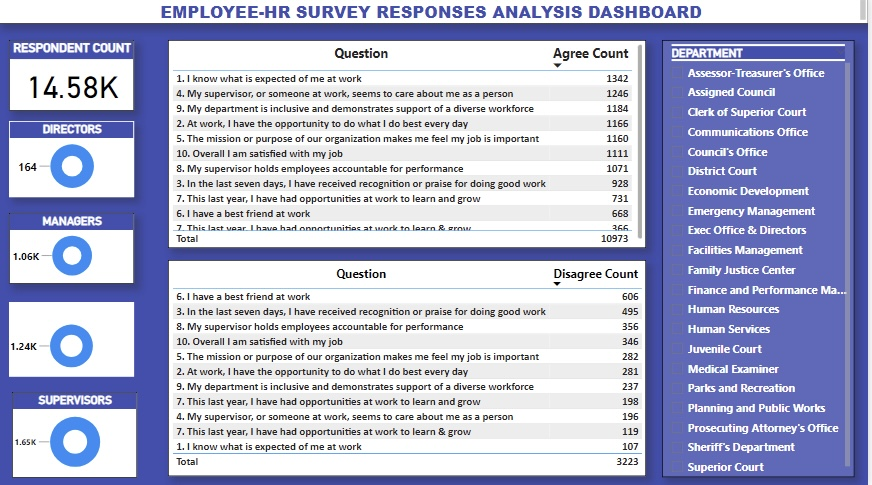

Layout of this report page (visuals, bound fields, positions):
{"tool":"powerbi","page":{"name":"Page 1","canvas":[1280,720],"ordinal":0},"visuals":[{"type":"card","title":"RESPONDENT COUNT","fields":{"Values":["Count(Employee Survey - HR Survey Reponses.Response ID)"]},"box":[16.8,64.3,183.7,104.1],"z":0},{"type":"textbox","box":[0,0,1280,41.3],"z":1000},{"type":"tableEx","fields":{"Values":["Employee Survey - HR Survey Reponses.Question","Employee Survey - HR Survey Reponses.Agree Count"]},"box":[249.6,64.3,702.8,306.2],"z":2000},{"type":"tableEx","fields":{"Values":["Employee Survey - HR Survey Reponses.Question","Employee Survey - HR Survey Reponses.Disagree Count"]},"box":[249.6,388.9,702.8,318.5],"z":3000},{"type":"donutChart","title":" DIRECTORS","fields":{"Y":["CountNonNull(Employee Survey - HR Survey Reponses.Director (groups))"]},"box":[16.8,183.7,183.7,111.8],"z":4000},{"type":"donutChart","title":"STAFF","fields":{"Y":["CountNonNull(Employee Survey - HR Survey Reponses.Staff (groups))"]},"box":[16.8,450.1,183.7,110.2],"z":5000},{"type":"donutChart","title":"MANAGERS","fields":{"Y":["CountNonNull(Employee Survey - HR Survey Reponses.Manager (groups))"]},"box":[16.8,318.5,183.7,104.1],"z":6000},{"type":"donutChart","title":"SUPERVISORS","fields":{"Y":["CountNonNull(Employee Survey - HR Survey Reponses.Supervisor (groups))"]},"box":[19.9,581.8,183.7,125.6],"z":7000},{"type":"slicer","fields":{"Values":["Employee Survey - HR Survey Reponses.Department"]},"box":[976.8,64.3,283.3,643.1],"z":8000}]}

Visuals, with their boxes in screenshot pixels (x1, y1, x2, y2), scaled from the page's 1280x720 canvas onto the 872x485 screenshot:
"RESPONDENT COUNT" card: <box>11,43,137,113</box>
textbox: <box>0,0,871,28</box>
tableEx - Employee Survey - HR Survey Reponses.Question x Employee Survey - HR Survey Reponses.Agree Count: <box>170,43,649,250</box>
tableEx - Employee Survey - HR Survey Reponses.Question x Employee Survey - HR Survey Reponses.Disagree Count: <box>170,262,649,477</box>
" DIRECTORS" donutChart: <box>11,124,137,199</box>
"STAFF" donutChart: <box>11,303,137,377</box>
"MANAGERS" donutChart: <box>11,215,137,285</box>
"SUPERVISORS" donutChart: <box>14,392,139,477</box>
slicer - Employee Survey - HR Survey Reponses.Department: <box>665,43,858,477</box>
